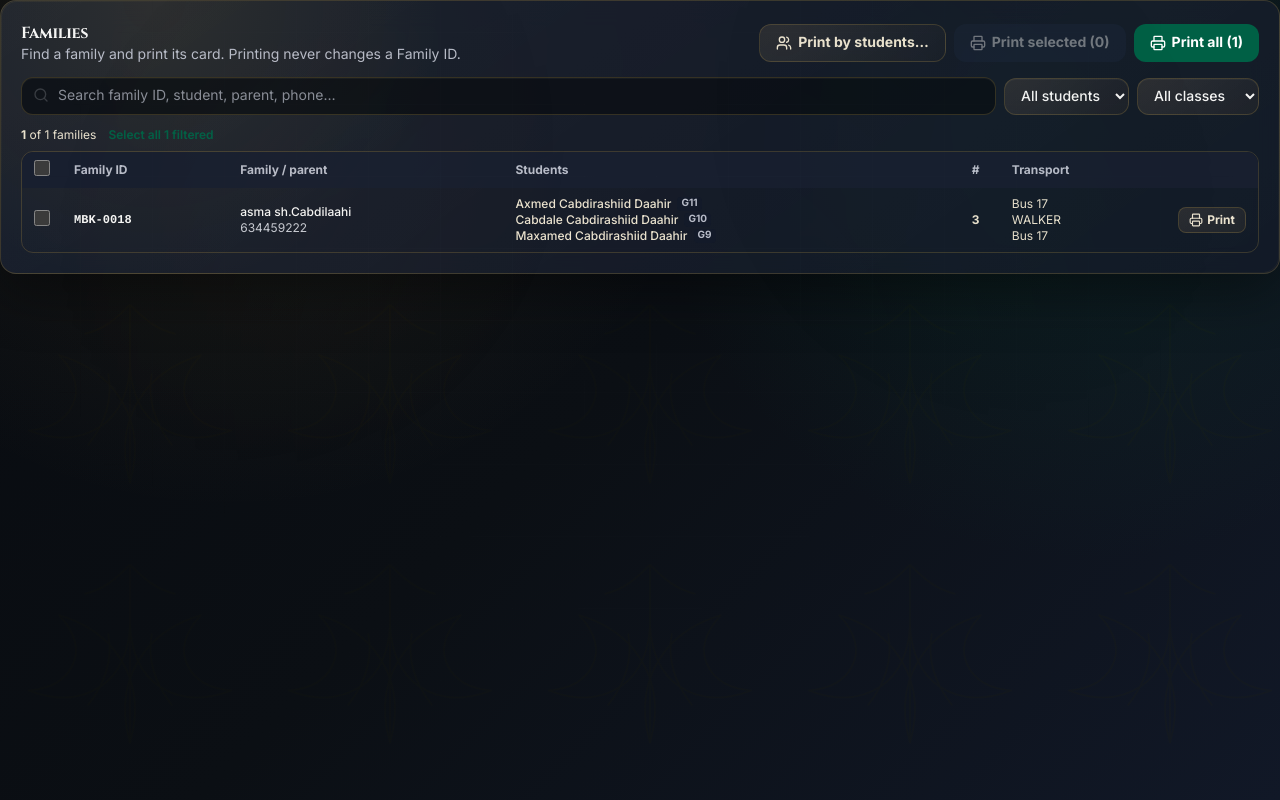
Test case: choosing Car pickup › drops the family entirely
Select "Car pickup" in the 1st dropdown at (1066,96), box x1=1004 y1=78 x2=1129 y2=114
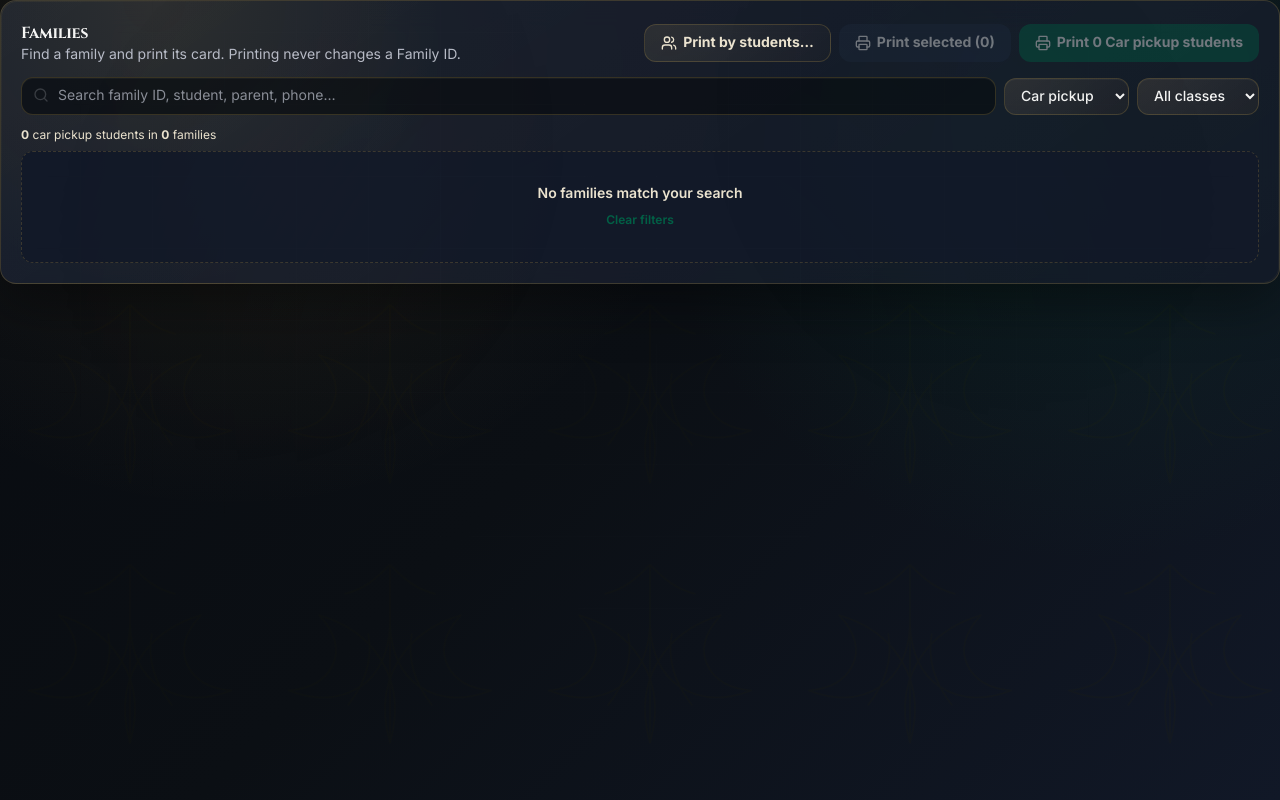
Expected: the text "MBK-0018" is gone
Expected: the text "Cabdale Cabdirashiid Daahir" is gone
